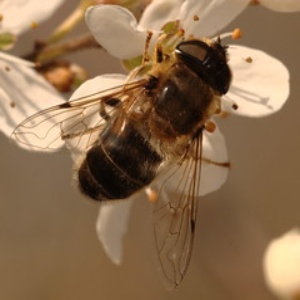bee: (74, 30, 239, 297)
